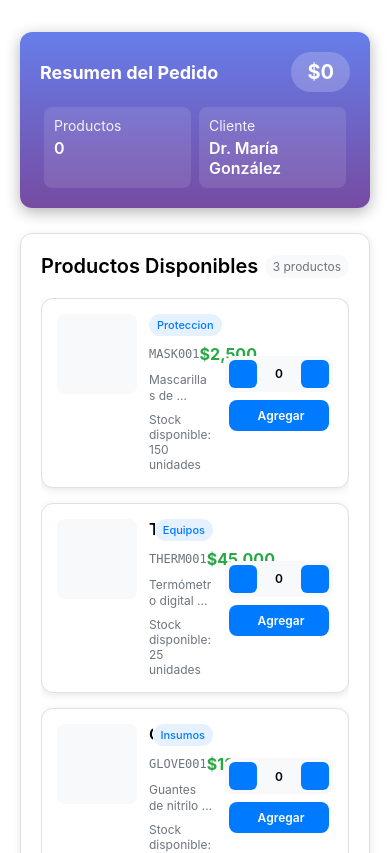
Test: NewOrderScreen › renders cart items and handles cart quantity controls
Click the text "Agregar" below "2,500".
click(281, 415)  # box [258,408,304,422]
(page scrolled)
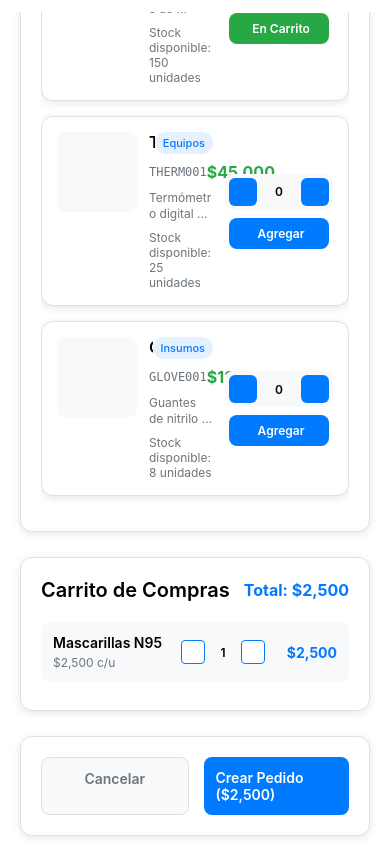
Now the text "Carrito de Compras" is shown, box [41,578,230,602]
Now the text "$2,500 c/u" is shown, box [53,655,115,670]
